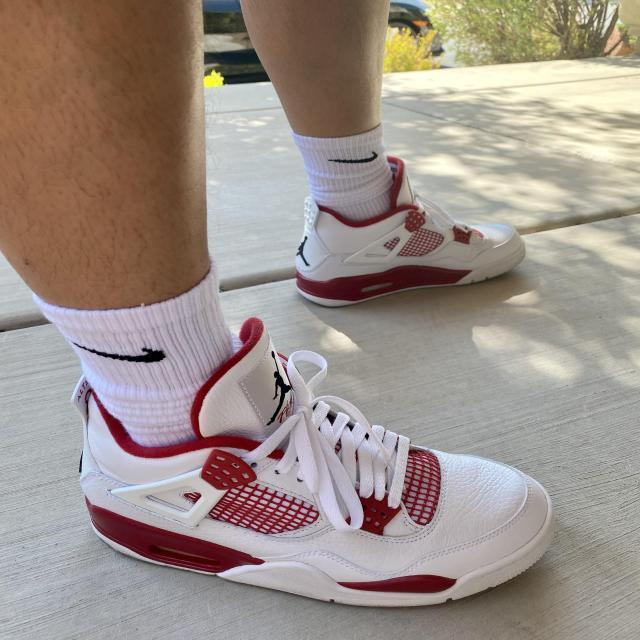shoes: (60, 315, 588, 621), (265, 150, 538, 321)
